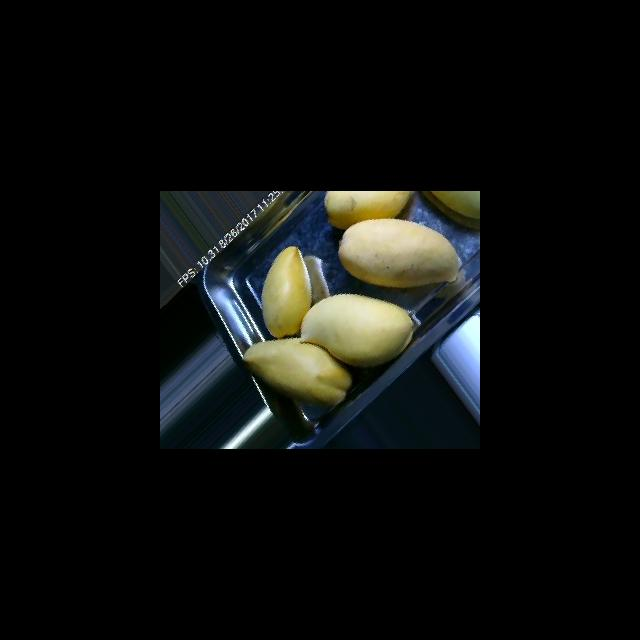Mango: (337, 217, 459, 288), (300, 292, 414, 367), (242, 336, 352, 406), (261, 245, 312, 338), (323, 191, 411, 229)
